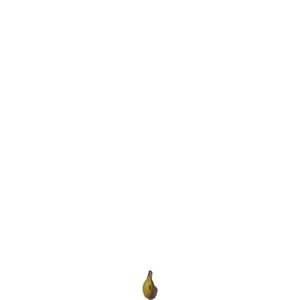banana: (141, 270, 159, 300)
